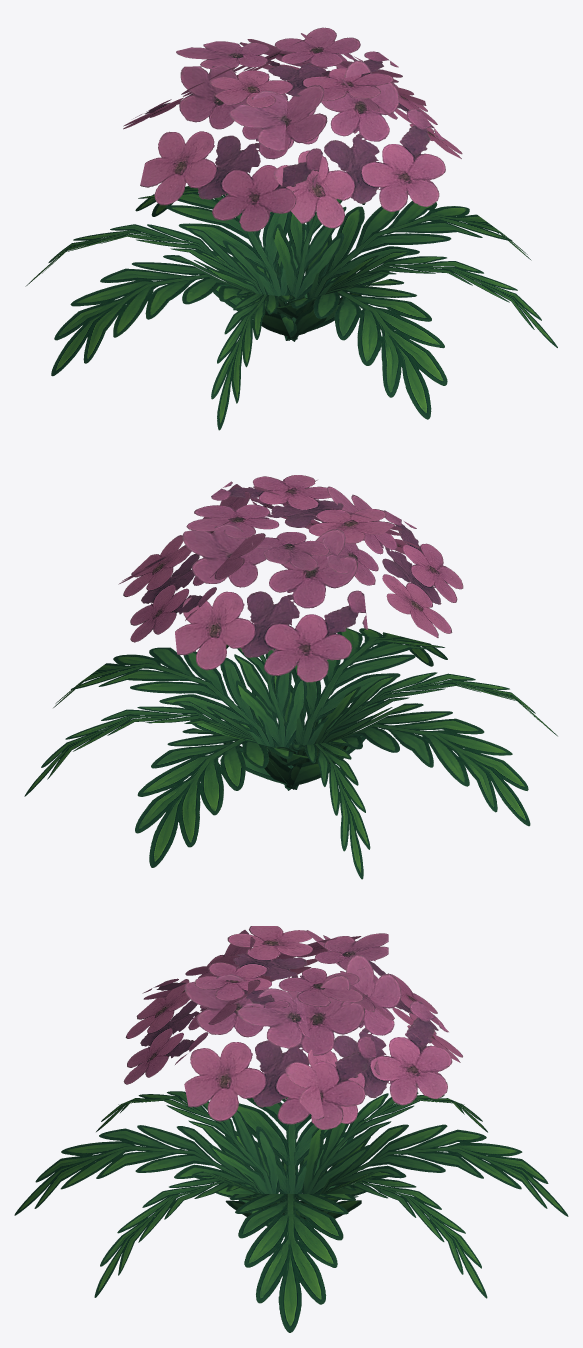
The model's file is plant03_(PinkFlower).fbx.
3 renders of one model, top to bottom at view 1: azimuth 30°, elevation 25°; view 2: azimuth 150°, elevation 25°; view 3: azimuth 270°, elevation 25°, orthographic.
Visible parts, largest first — view 1: Object006; view 2: Object006; view 3: Object006.
Part boxes in pixels (x1,y1,x2,y2): Object006: (25,27,557,430); Object006: (24,475,557,879); Object006: (14,926,568,1332).
Bounding box in the file's own units: 42.01 × 24.76 × 42.01.
Materials: 1 (1 with a texture image).
